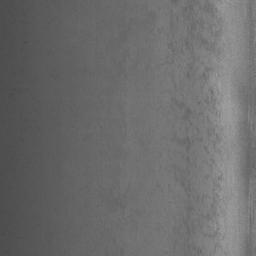Silk spot: (150, 0, 227, 256), (111, 187, 139, 230), (146, 8, 160, 21)
